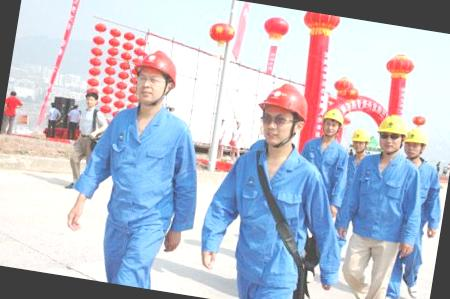no_helmet: (81, 85, 104, 111)
